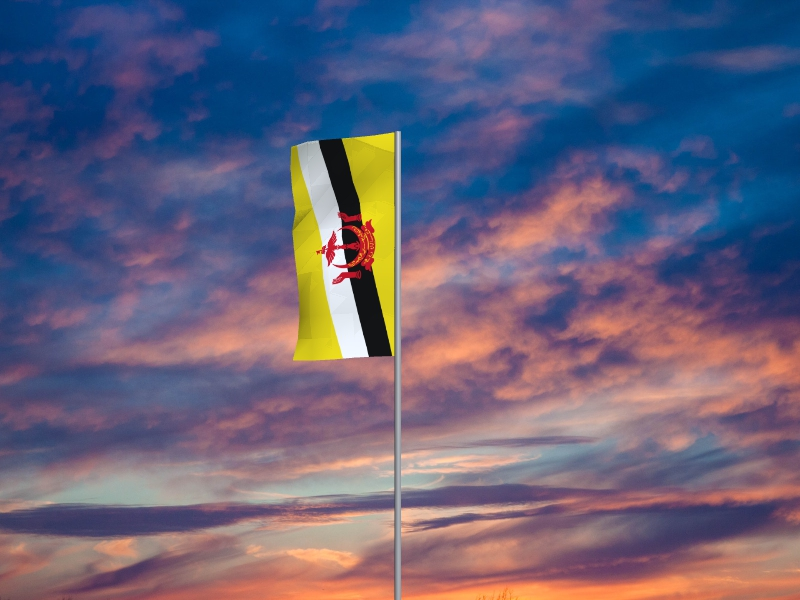bn: (289, 134, 395, 363)
